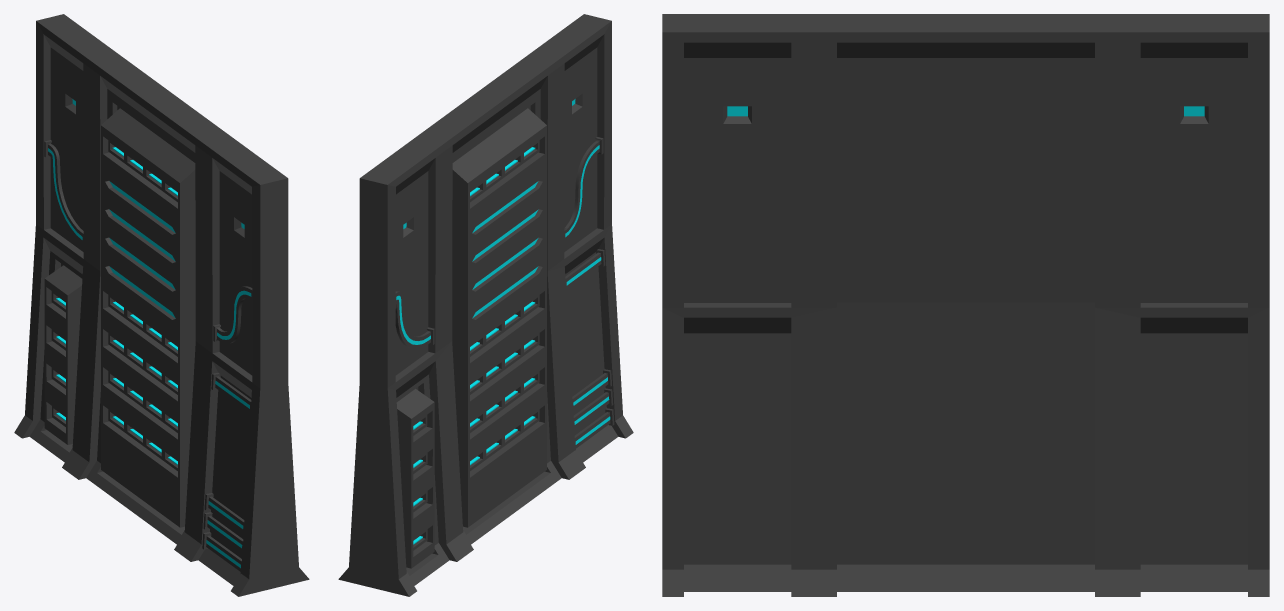
Rendered from Modular wall deco USB PORTS.fbx.
The picture shows the model from 3 angles, left to right: view 1: azimuth 30°, elevation 25°; view 2: azimuth 150°, elevation 25°; view 3: azimuth 270°, elevation 25°; orthographic projection. The views are drawn at different scales.
Visible parts, largest first — view 1: Modular Wall deco USB PORTS; view 2: Modular Wall deco USB PORTS; view 3: Modular Wall deco USB PORTS.
Part boxes in pixels (x1,y1,x2,y2): Modular Wall deco USB PORTS: (14,14,309,596); Modular Wall deco USB PORTS: (338,14,633,596); Modular Wall deco USB PORTS: (662,14,1269,596).
Bounding box in the file's own units: 73.43 × 400 × 400.
